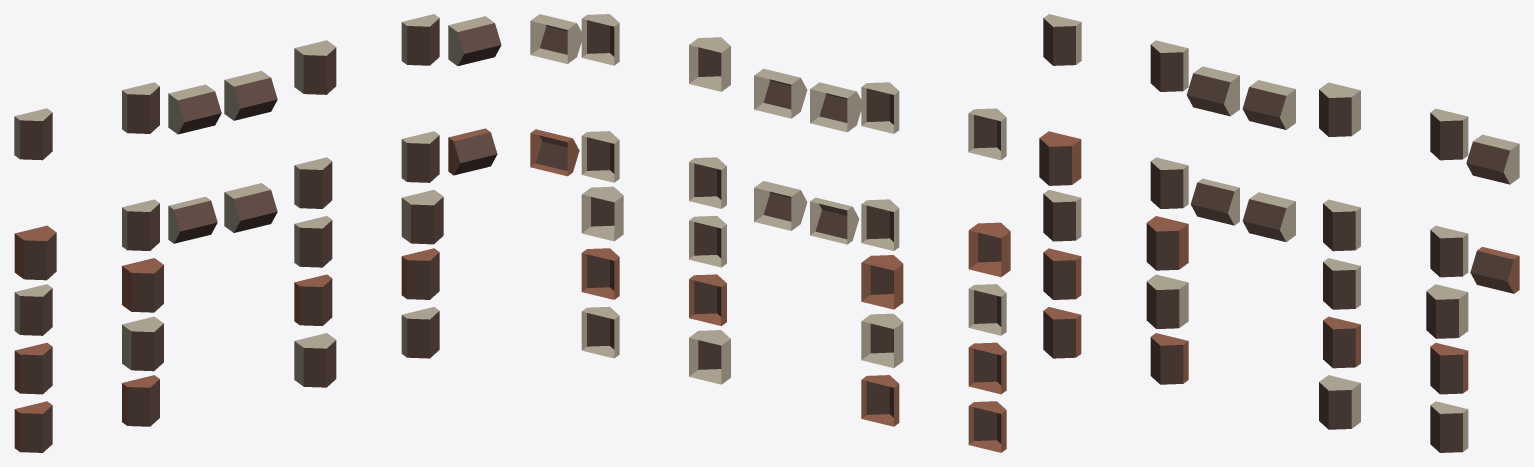
Rendered from island_bldg_03_06.obj.
The picture shows the model from 3 angles, left to right: view 1: azimuth 30°, elevation 25°; view 2: azimuth 150°, elevation 25°; view 3: azimuth 330°, elevation 25°; orthographic projection.
Parts seen in each view (by area): view 1: island_bldg_03_06; view 2: island_bldg_03_06; view 3: island_bldg_03_06.
Boxes of the visible parts, x1,y1,x2,y2 form: island_bldg_03_06: [14, 14, 501, 452]; island_bldg_03_06: [530, 14, 1010, 452]; island_bldg_03_06: [1039, 14, 1519, 452].
Size of the model in its own units: 202 by 136 by 12.06.
